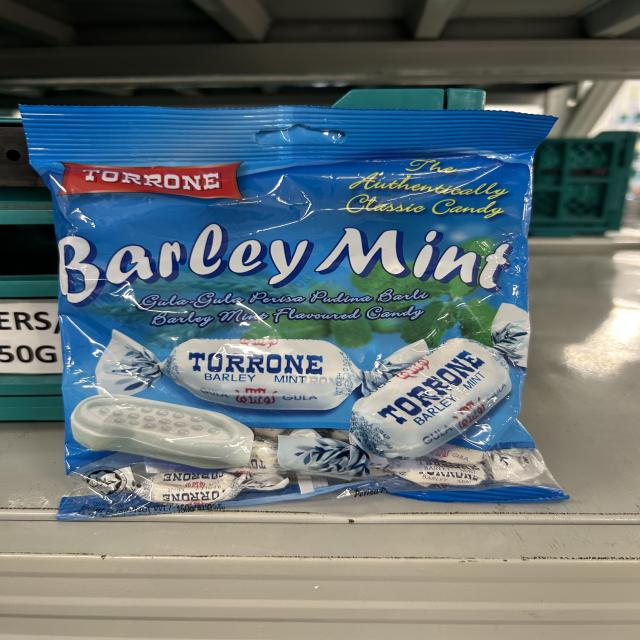object_name: (40, 113, 531, 499)
